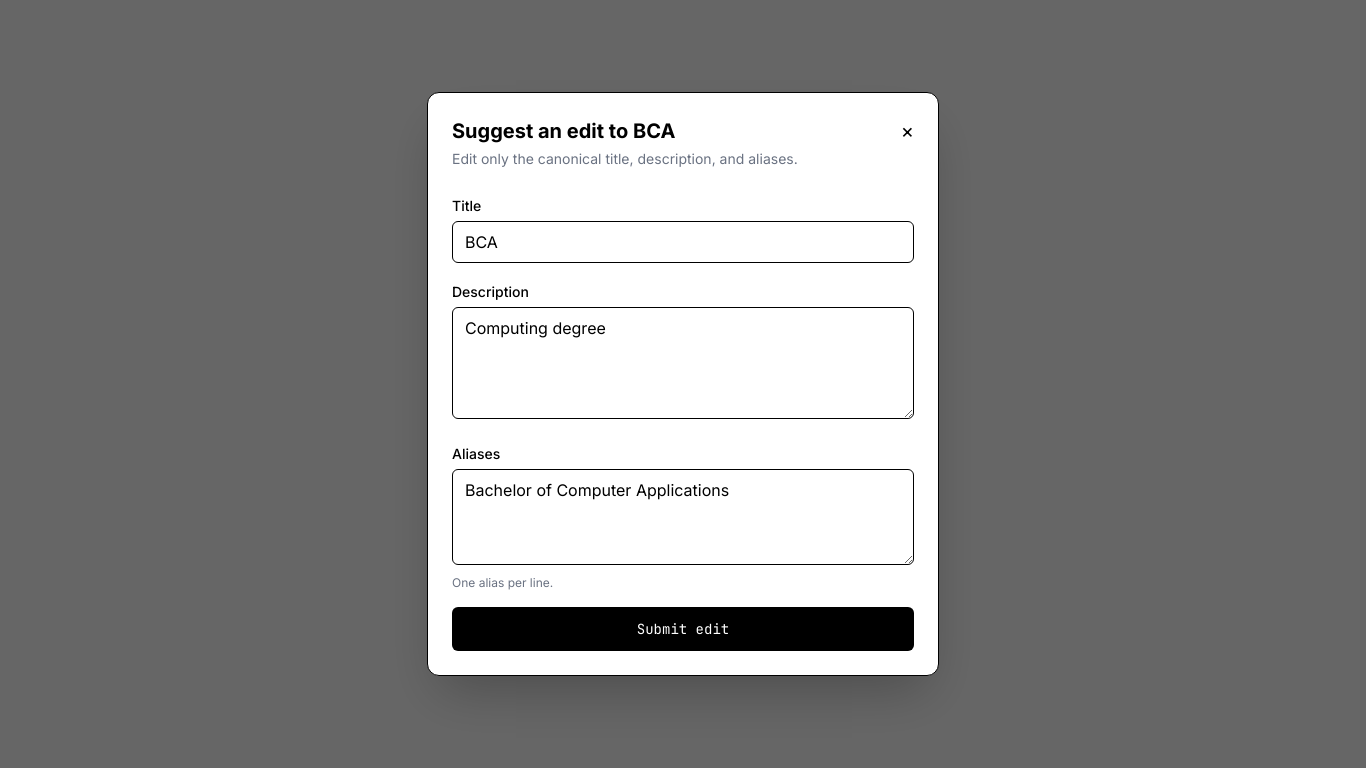
Test: EditDialog › retains typed fields after a server failure
Replace the text in the field labelled "Title" with "Bachelor of Computer Applications": (683, 242) [452,221,914,263]
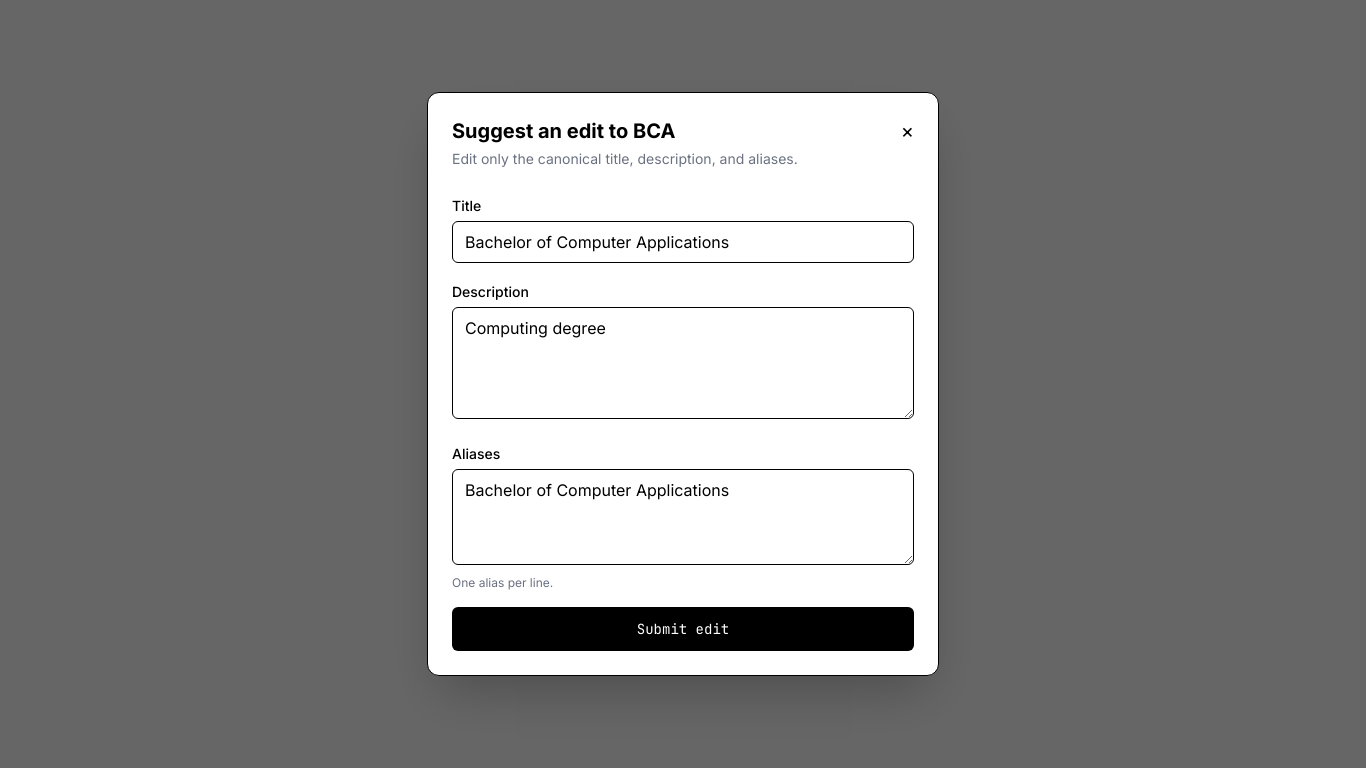
Replace the text in the text box labelled "Description" with "An undergraduate computing degree.": (683, 363) [452,307,914,419]
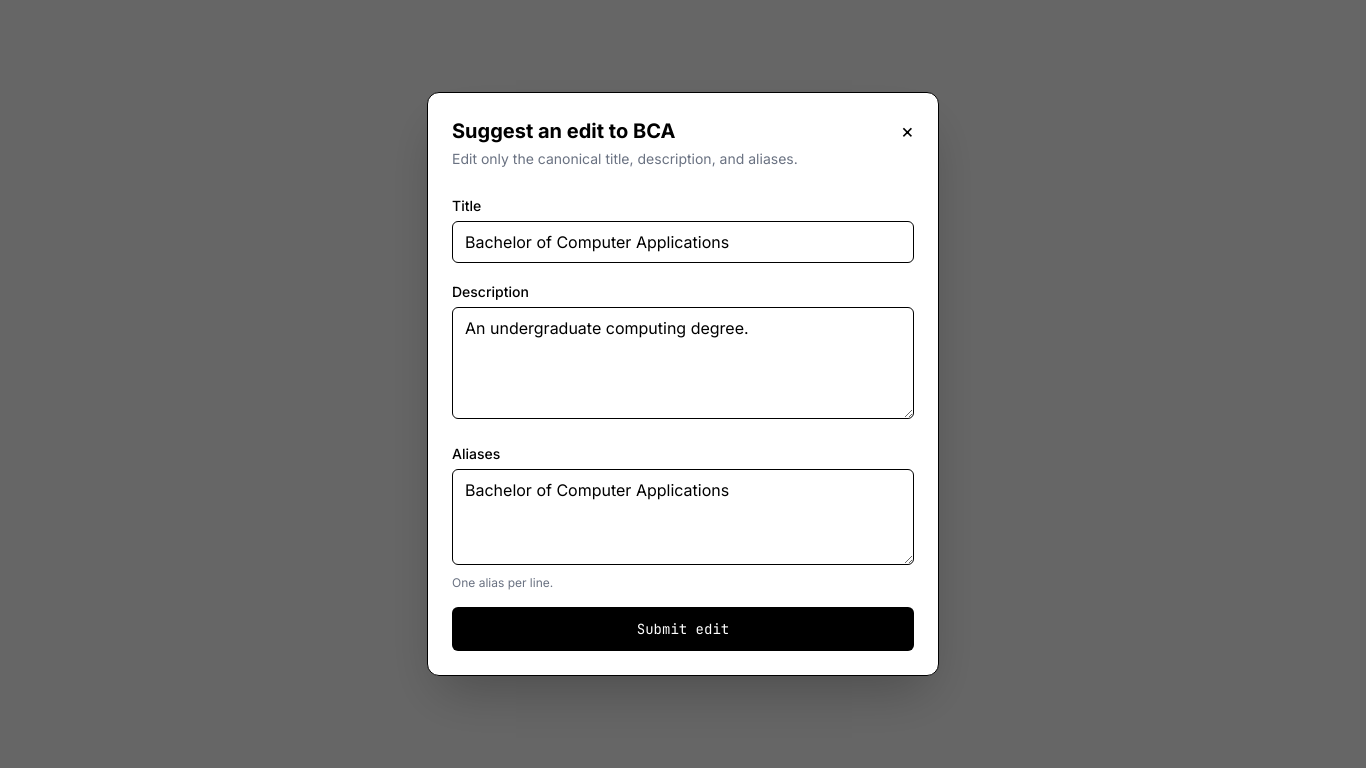
Replace the text in the text box labelled "Aliases" with "BCA": (683, 517) [452,469,914,565]
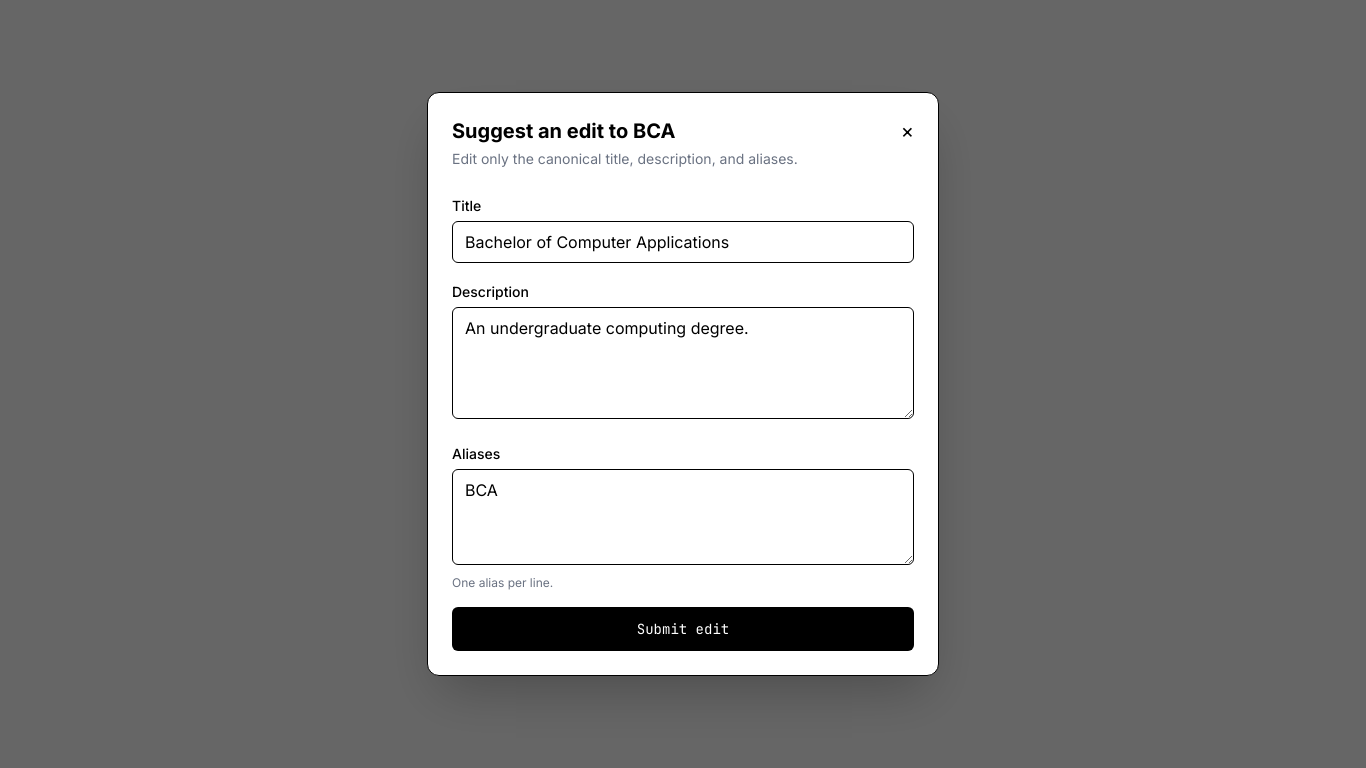
Click the button "Submit edit": (683, 629) [452,607,914,651]
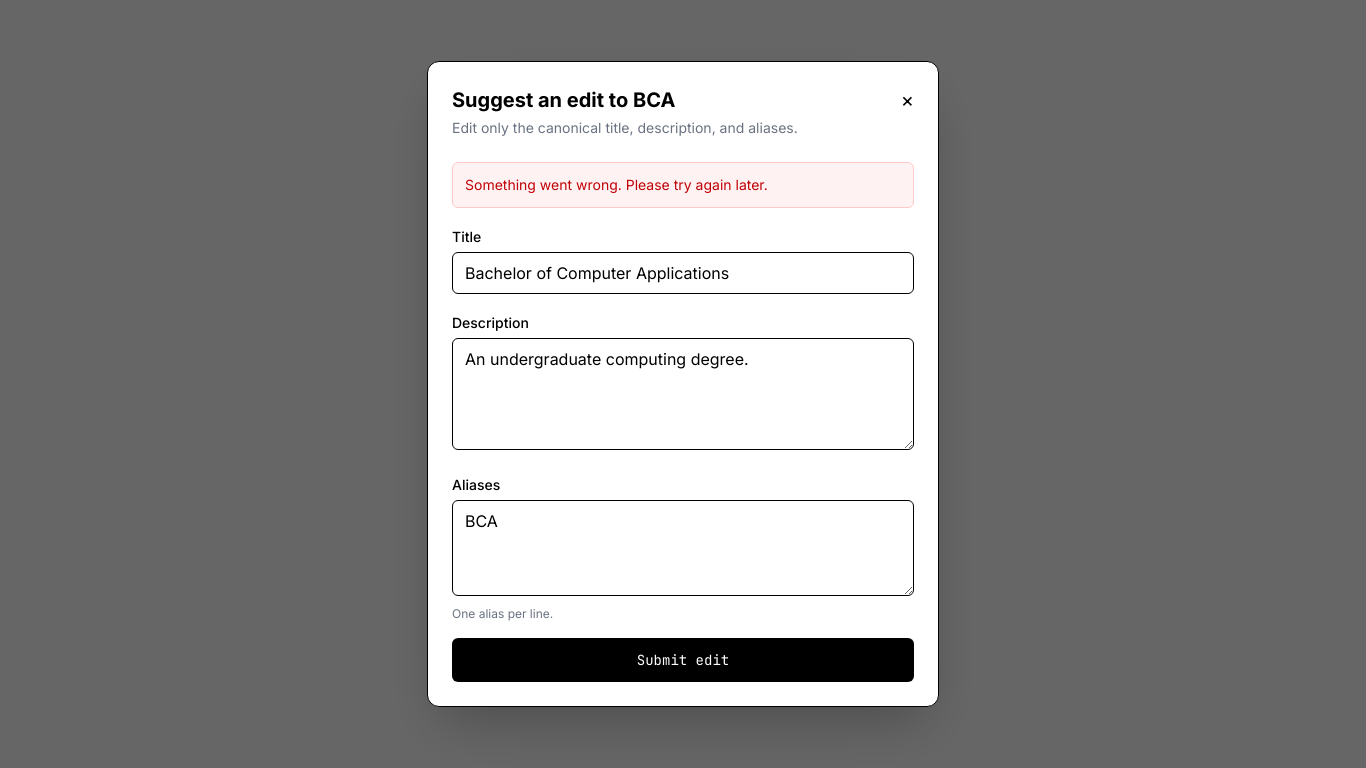
Result: the message shows "Something went wrong" at [465,176,768,193]
